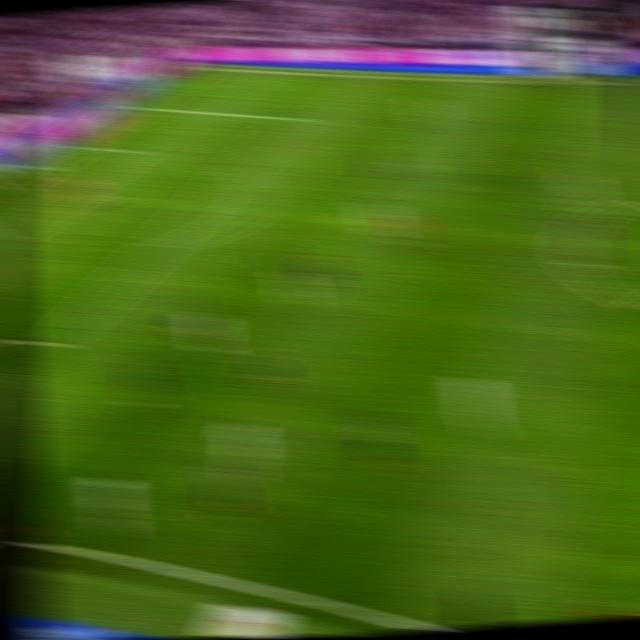bigarea_bottom_inner: (36, 329, 68, 359)
bigarea_top_inner: (280, 110, 308, 127)
bigarea_top_outter: (126, 99, 154, 112)
bottom_arc_area_intersection: (146, 235, 176, 255)
corner: (185, 60, 214, 72)
smallarea_top_inner: (117, 144, 146, 159)
top_arc_area_intersection: (227, 160, 255, 177)
